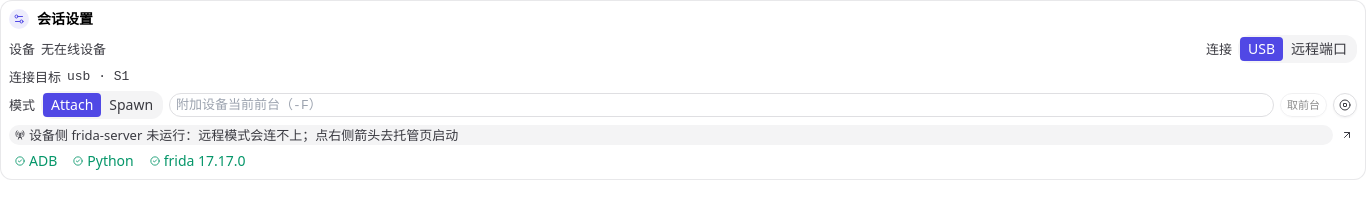
Test case: 连接目标行：切换不改变布局 › 两种模式下都在，而且是同一个节点（只换内容，不换结构）
Expected: the text "usb · S1" is shown, [67,69,129,84]
Click the radio button labelled "远程端口": (1319, 49) [1283,37,1355,61]
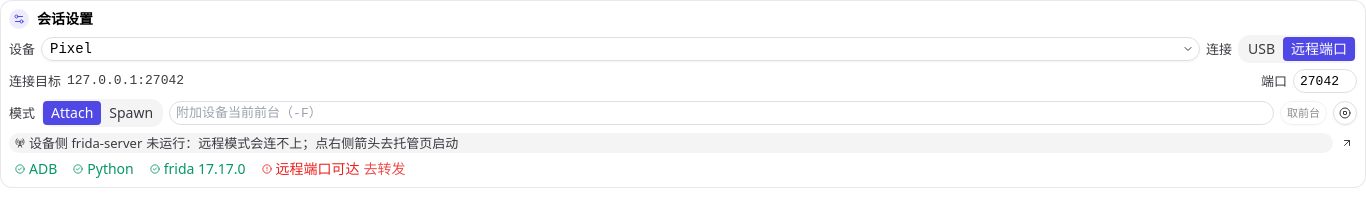
Now the field with test id "frida-port" is shown, box [1293,69,1357,93]
Now the text "127.0.0.1:27042" is shown, box [67,73,184,88]
